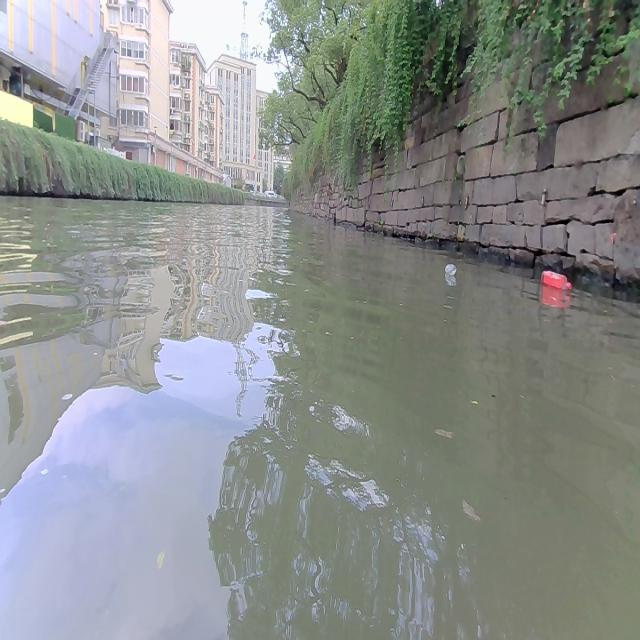bottle: (540, 269, 572, 290), (444, 262, 456, 275)
